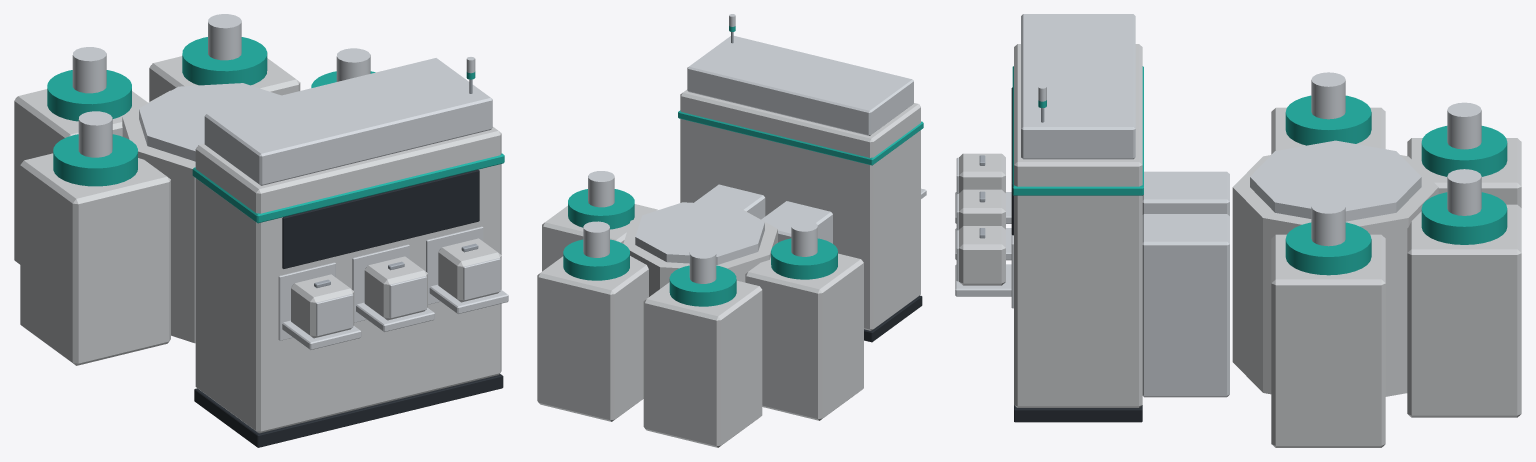
File: process-tool-efem.glb
3 views of the same model, side by side, from view 1: azimuth 30°, elevation 25°; view 2: azimuth 150°, elevation 25°; view 3: azimuth 270°, elevation 25° (orthographic). The views are drawn at different scales.
Parts seen in each view (by area): view 1: process-tool-efem; view 2: process-tool-efem; view 3: process-tool-efem.
Boxes of the visible parts, <box> form: process-tool-efem: <box>14,14,508,447</box>; process-tool-efem: <box>537,14,926,447</box>; process-tool-efem: <box>955,14,1521,447</box>.
Bounding box in the file's own units: 2.9 × 2.52 × 3.96.
